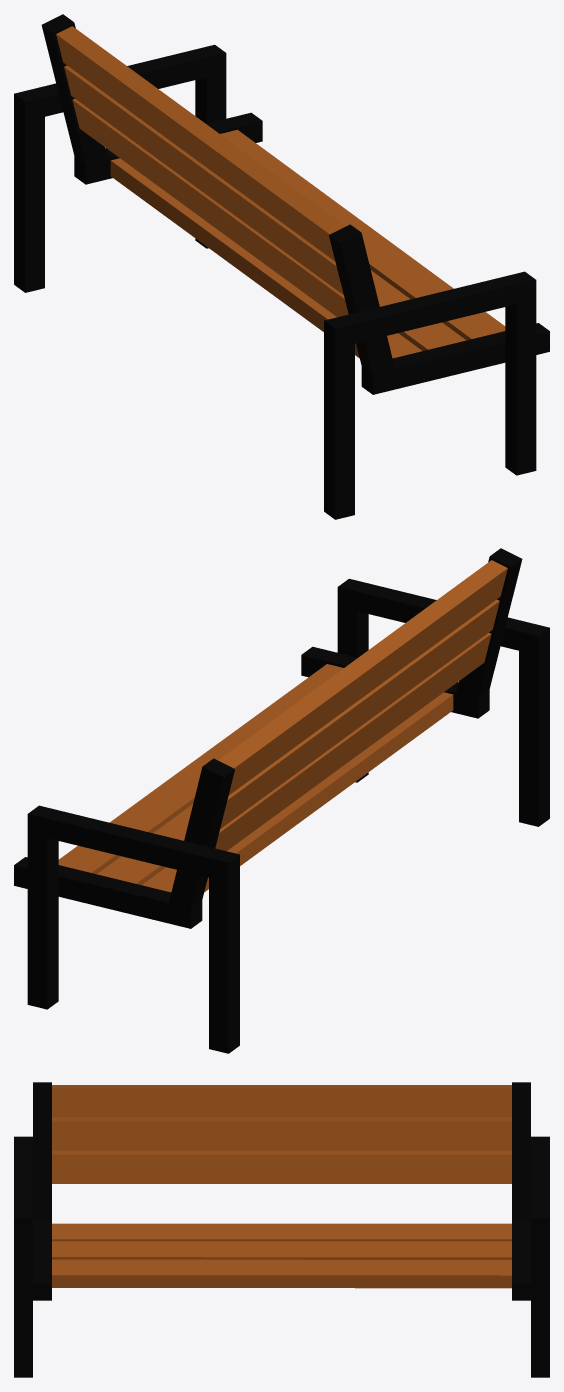
File: Bench.fbx
3 renders of one model, top to bottom at view 1: azimuth 30°, elevation 25°; view 2: azimuth 150°, elevation 25°; view 3: azimuth 270°, elevation 25°, orthographic. The views are drawn at different scales.
Visible parts, largest first — view 1: Bench; view 2: Bench; view 3: Bench.
Boxes of the visible parts, <box> form: Bench: <box>14,14,549,519</box>; Bench: <box>14,548,549,1053</box>; Bench: <box>14,1082,549,1377</box>.
Bounding box in the file's own units: 0.5747 × 1.42 × 0.6553.
1 material, 1 textured.
